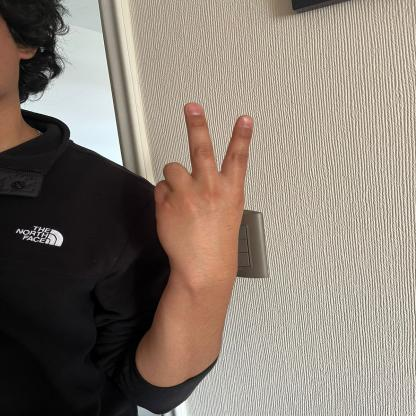V: (146, 99, 260, 266)
